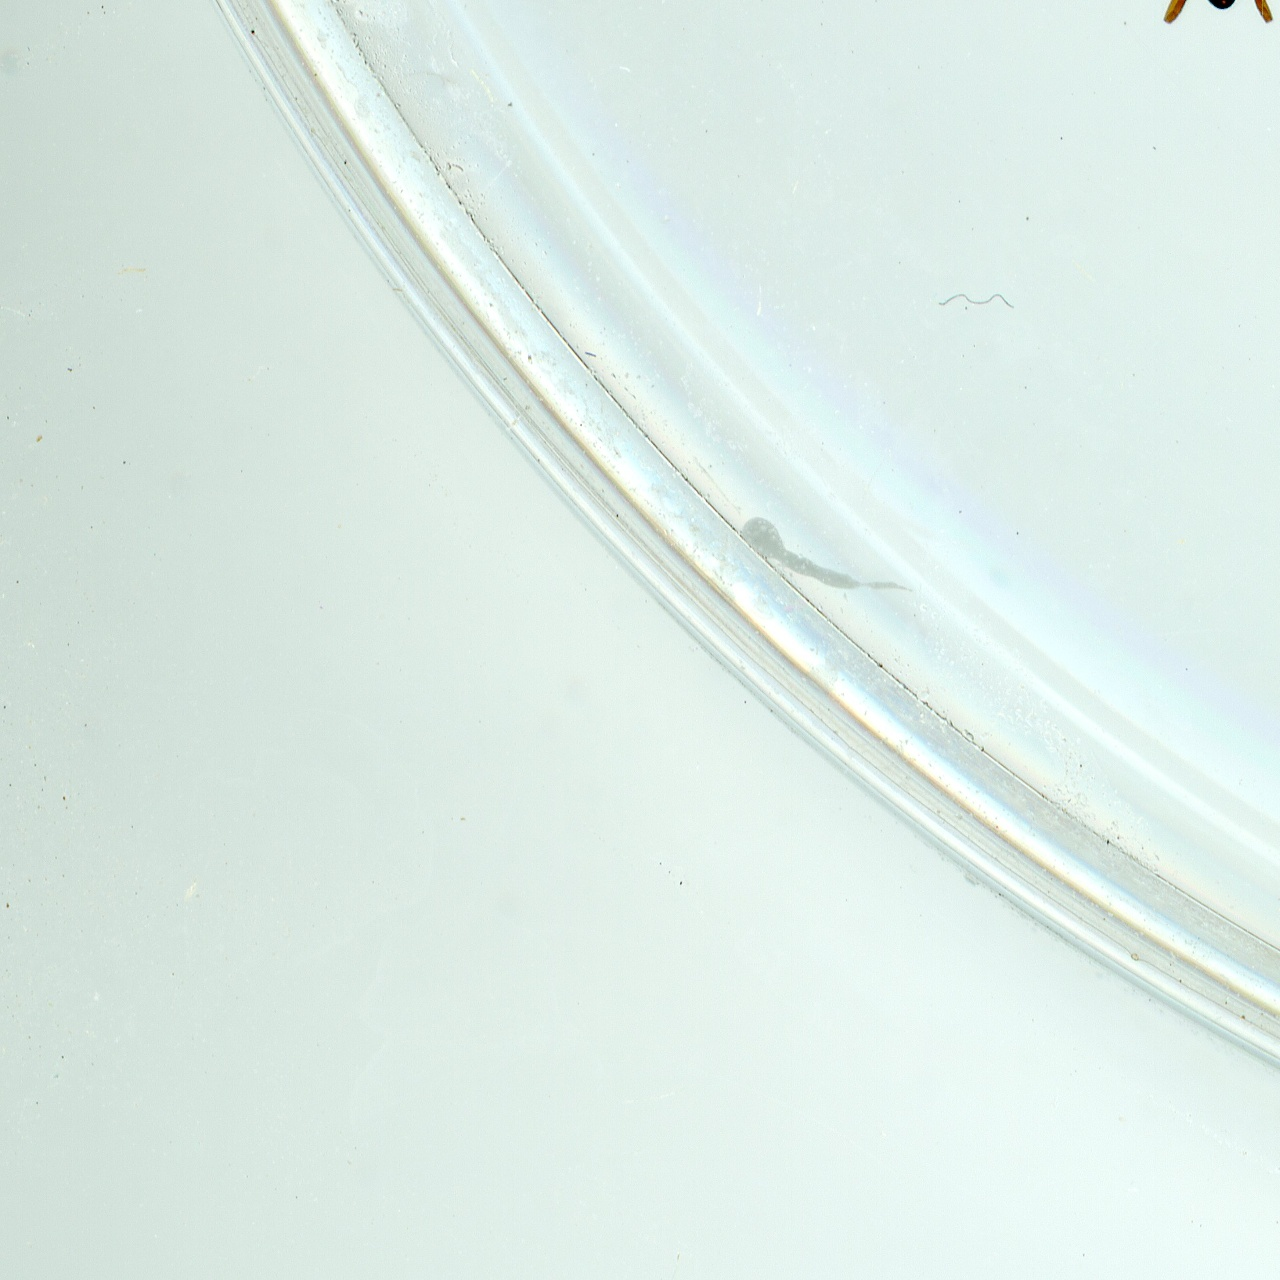arthropod: (1131, 0, 1280, 39)
